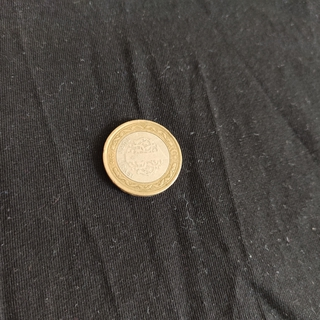1TL: (100, 117, 183, 198)
